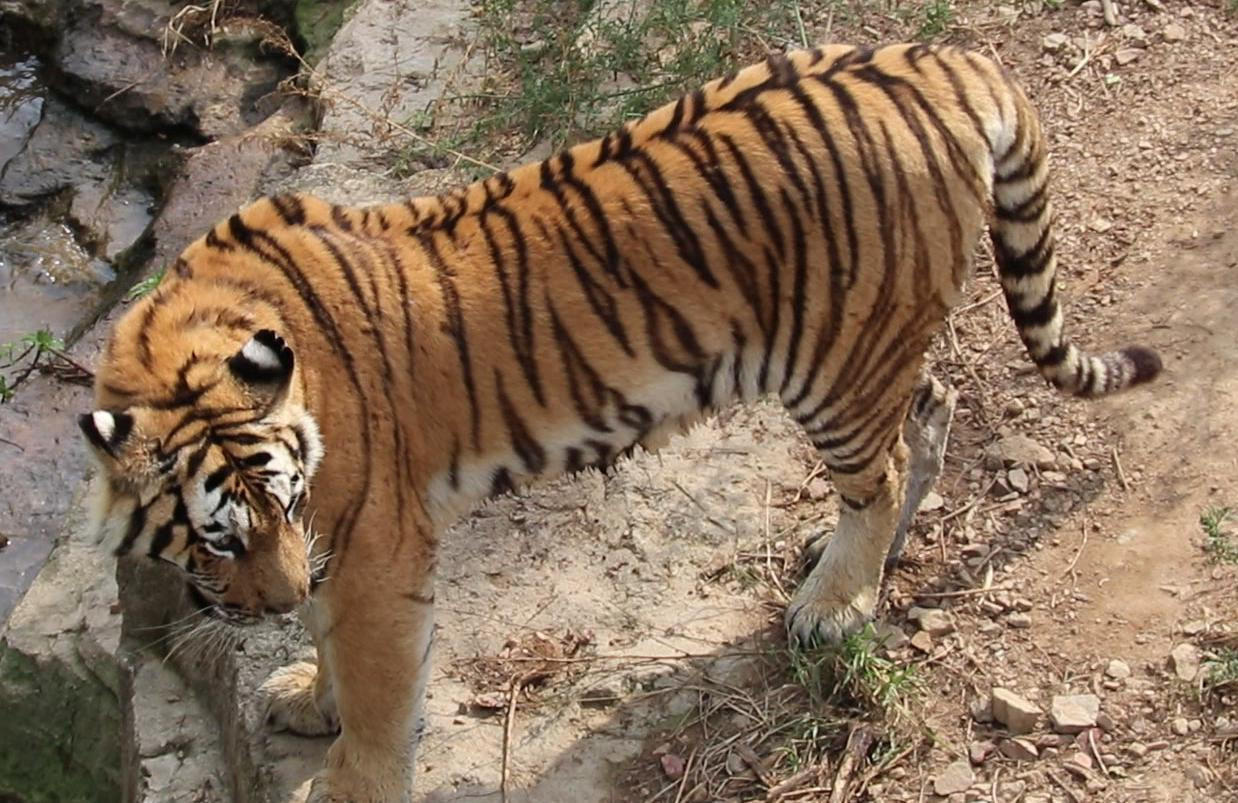tiger: (80, 43, 1160, 802)
